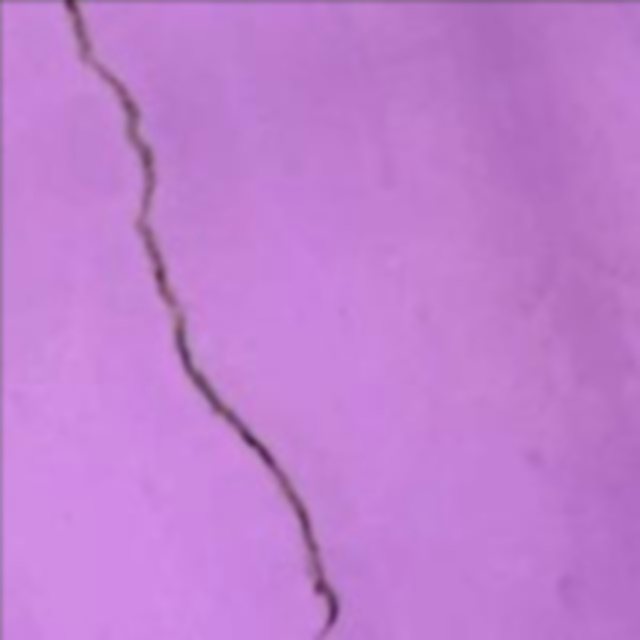SurfaceCrack: (50, 0, 366, 640)
